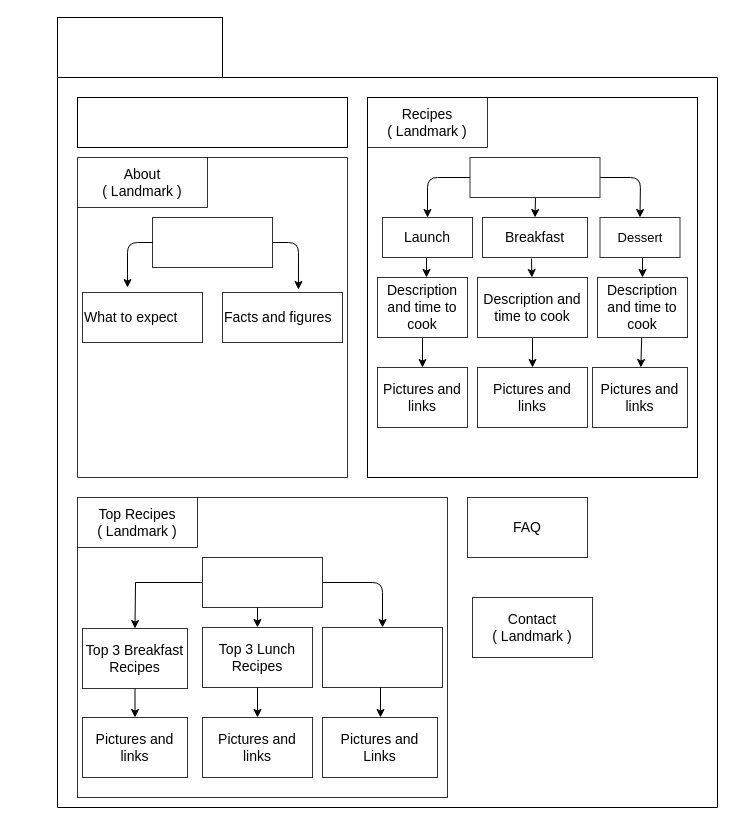
Some shapes in this 736 by 826 pixel diagram are drawn without their labels. Here are the shapes that lost their labels. From the top down, the centre of each, then its label:
At point 139,47: "Recipes- home cooking".
At point 212,122: "Recipes home cooking ( Homepage)".
At point 534,177: "Types of Recipes ( Default )".
At point 212,242: "Description".
At point 262,582: "Types of Recipes".
At point 382,657: "Top 3 Dessert Recipes".
